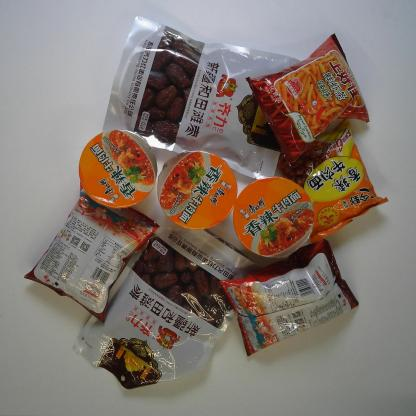Dried Food: (98, 15, 314, 186), (71, 206, 256, 397)
Instant Noodles: (276, 114, 392, 247), (77, 126, 161, 212), (232, 176, 317, 260), (154, 149, 240, 232)
Puffed Food: (22, 178, 164, 326), (220, 235, 359, 359), (247, 30, 371, 166)
